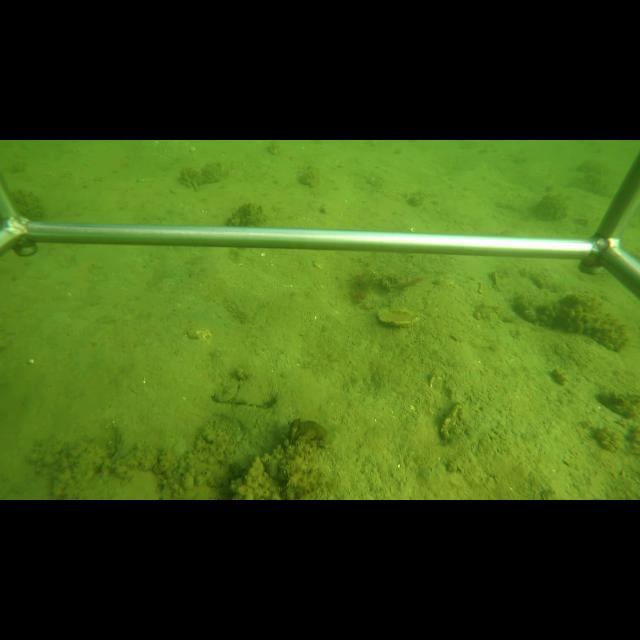Oyster-Closed: (438, 404, 465, 443), (490, 270, 503, 294)
